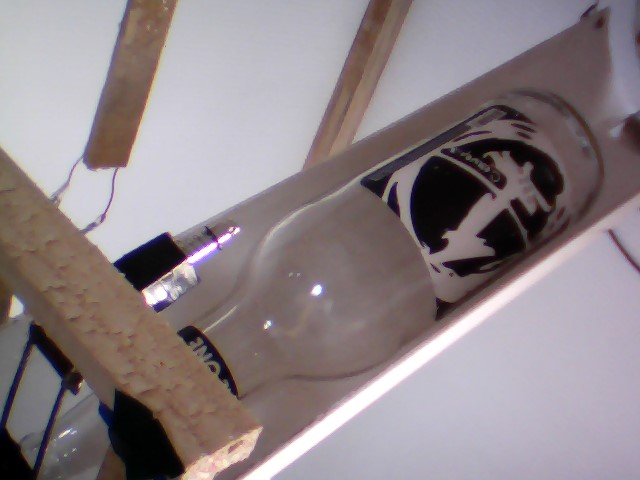vidrio: (167, 78, 608, 404)
